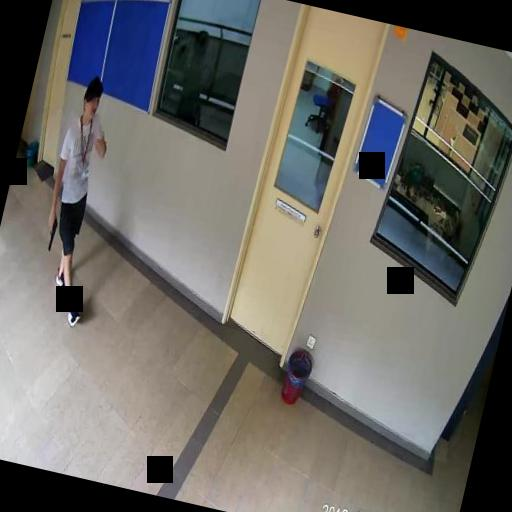Handgun: (40, 210, 59, 250)
